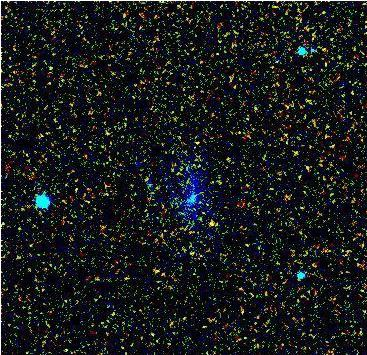star: (198, 205, 228, 235)
